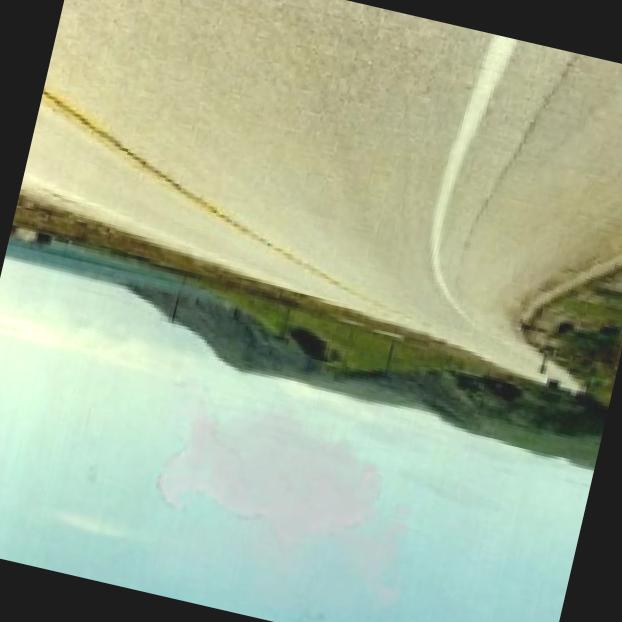smoke: (129, 368, 450, 622)
